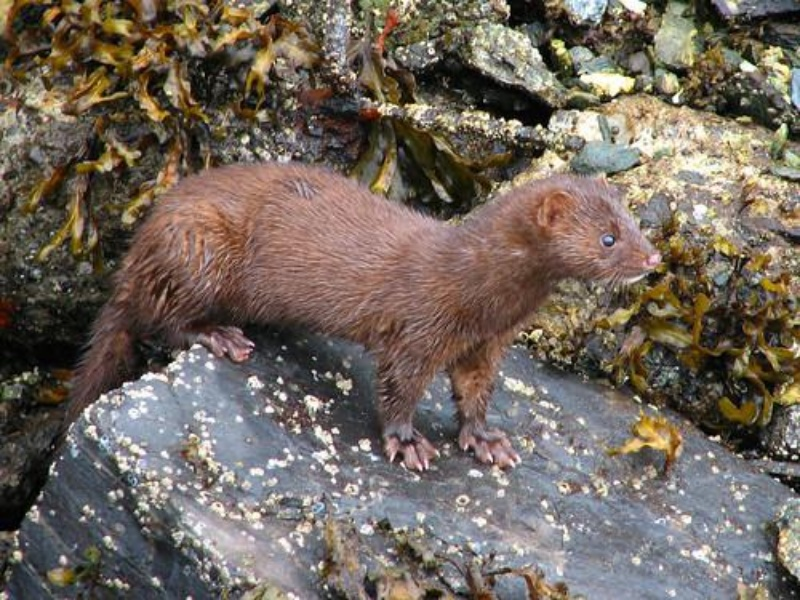minkish: (76, 158, 668, 494)
